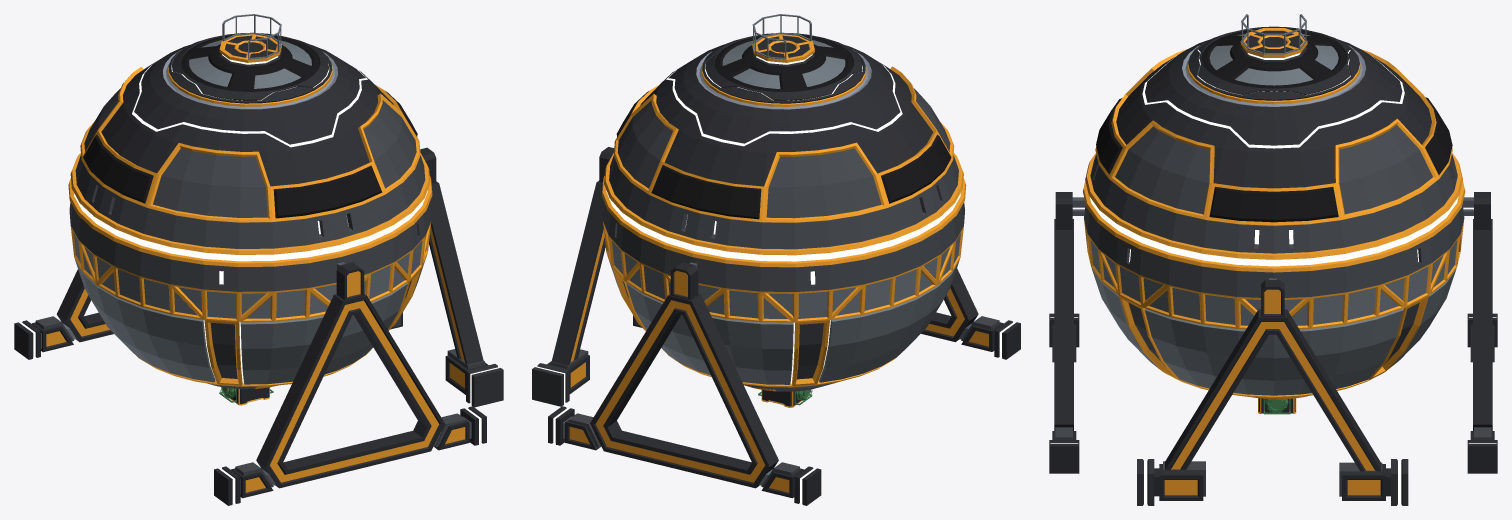
Rendered from SM_Fuel_Tank.glb.
3 views of the same model, side by side, from view 1: azimuth 30°, elevation 25°; view 2: azimuth 150°, elevation 25°; view 3: azimuth 270°, elevation 25° (orthographic). The views are drawn at different scales.
Parts seen in each view (by area): view 1: SM_Fuel_Tank; view 2: SM_Fuel_Tank; view 3: SM_Fuel_Tank.
Boxes of the visible parts, x1,y1,x2,y2 form: SM_Fuel_Tank: [14, 14, 503, 505]; SM_Fuel_Tank: [532, 14, 1020, 505]; SM_Fuel_Tank: [1049, 14, 1497, 505].
Size of the model in its own units: 22.01 by 22.57 by 23.58.
3 materials, 1 textured.
